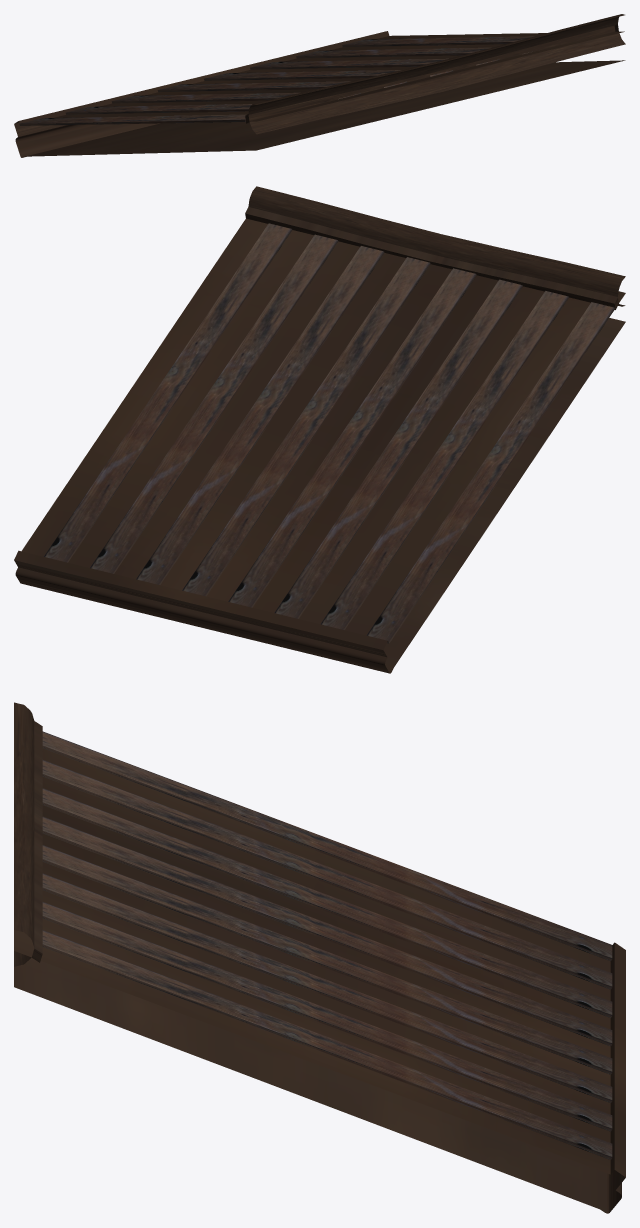
The model's file is OutdoorArchitecture_Roof02_Planks_Mid01_BShortt.fbx.
The picture shows the model from 3 angles, top to bottom: view 1: azimuth 30°, elevation 25°; view 2: azimuth 150°, elevation 25°; view 3: azimuth 270°, elevation 25°; orthographic projection. The views are drawn at different scales.
Parts seen in each view (by area): view 1: OutdoorArchitecture_Roof02_Planks_Mid01_BShortt; view 2: OutdoorArchitecture_Roof02_Planks_Mid01_BShortt; view 3: OutdoorArchitecture_Roof02_Planks_Mid01_BShortt.
Boxes of the visible parts, <box> form: OutdoorArchitecture_Roof02_Planks_Mid01_BShortt: <box>14,14,625,157</box>; OutdoorArchitecture_Roof02_Planks_Mid01_BShortt: <box>14,186,625,673</box>; OutdoorArchitecture_Roof02_Planks_Mid01_BShortt: <box>14,702,625,1213</box>.
Bounding box in the file's own units: 300 × 174 × 341.
